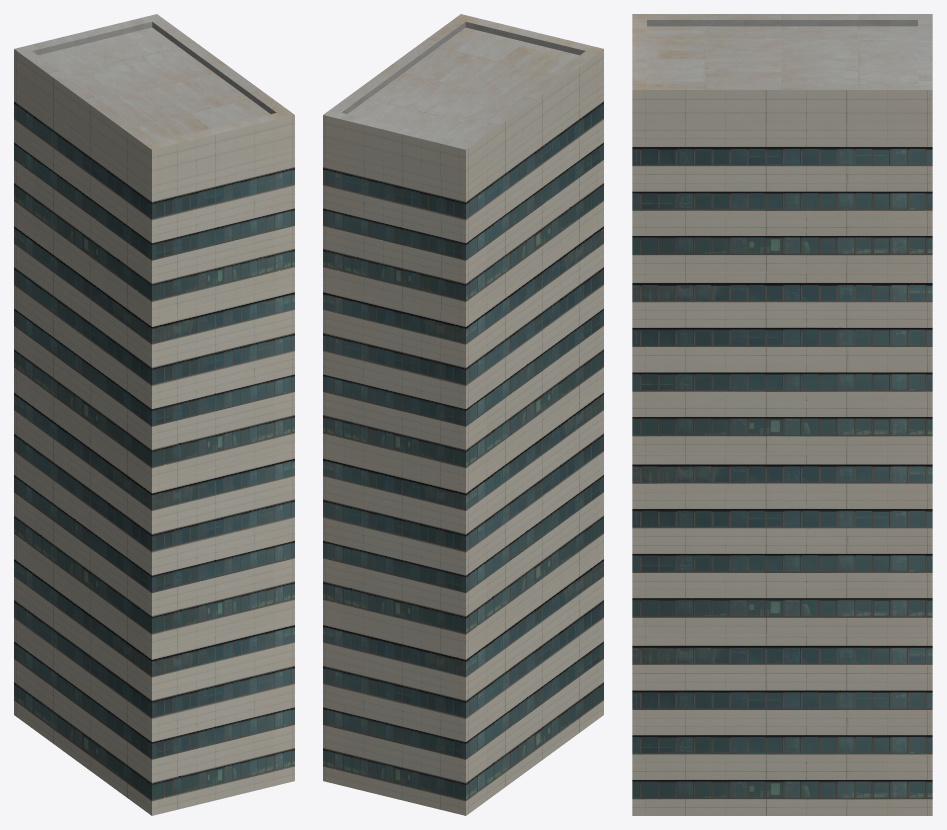
Rendered from house13.FBX.
3 renders of one model, left to right at view 1: azimuth 30°, elevation 25°; view 2: azimuth 150°, elevation 25°; view 3: azimuth 270°, elevation 25°, orthographic. The views are drawn at different scales.
Parts seen in each view (by area): view 1: Box002; view 2: Box002; view 3: Box002.
Boxes of the visible parts, <box> form: Box002: <box>14,14,294,815</box>; Box002: <box>323,14,603,815</box>; Box002: <box>632,14,932,815</box>.
Bounding box in the file's own units: 71.8 × 319 × 120.
